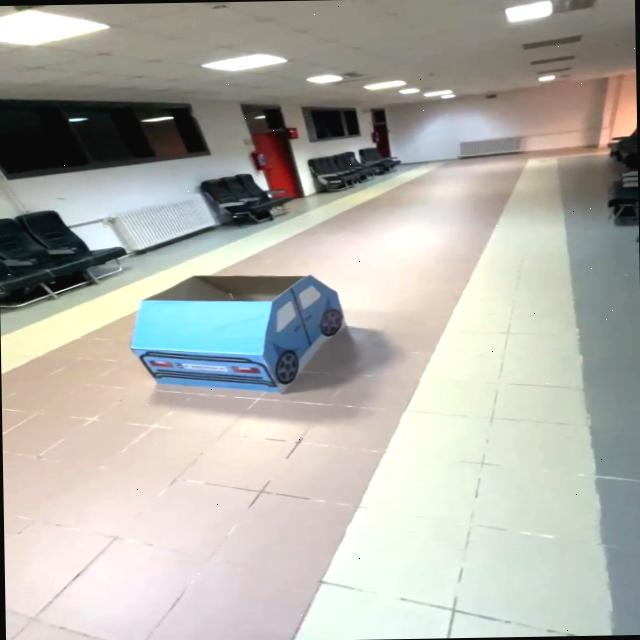blue_car: (108, 258, 359, 418)
